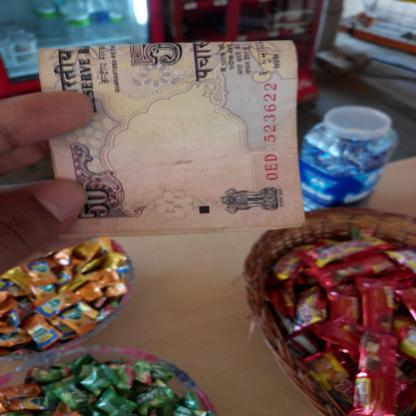Old50Front: (37, 40, 306, 240)
